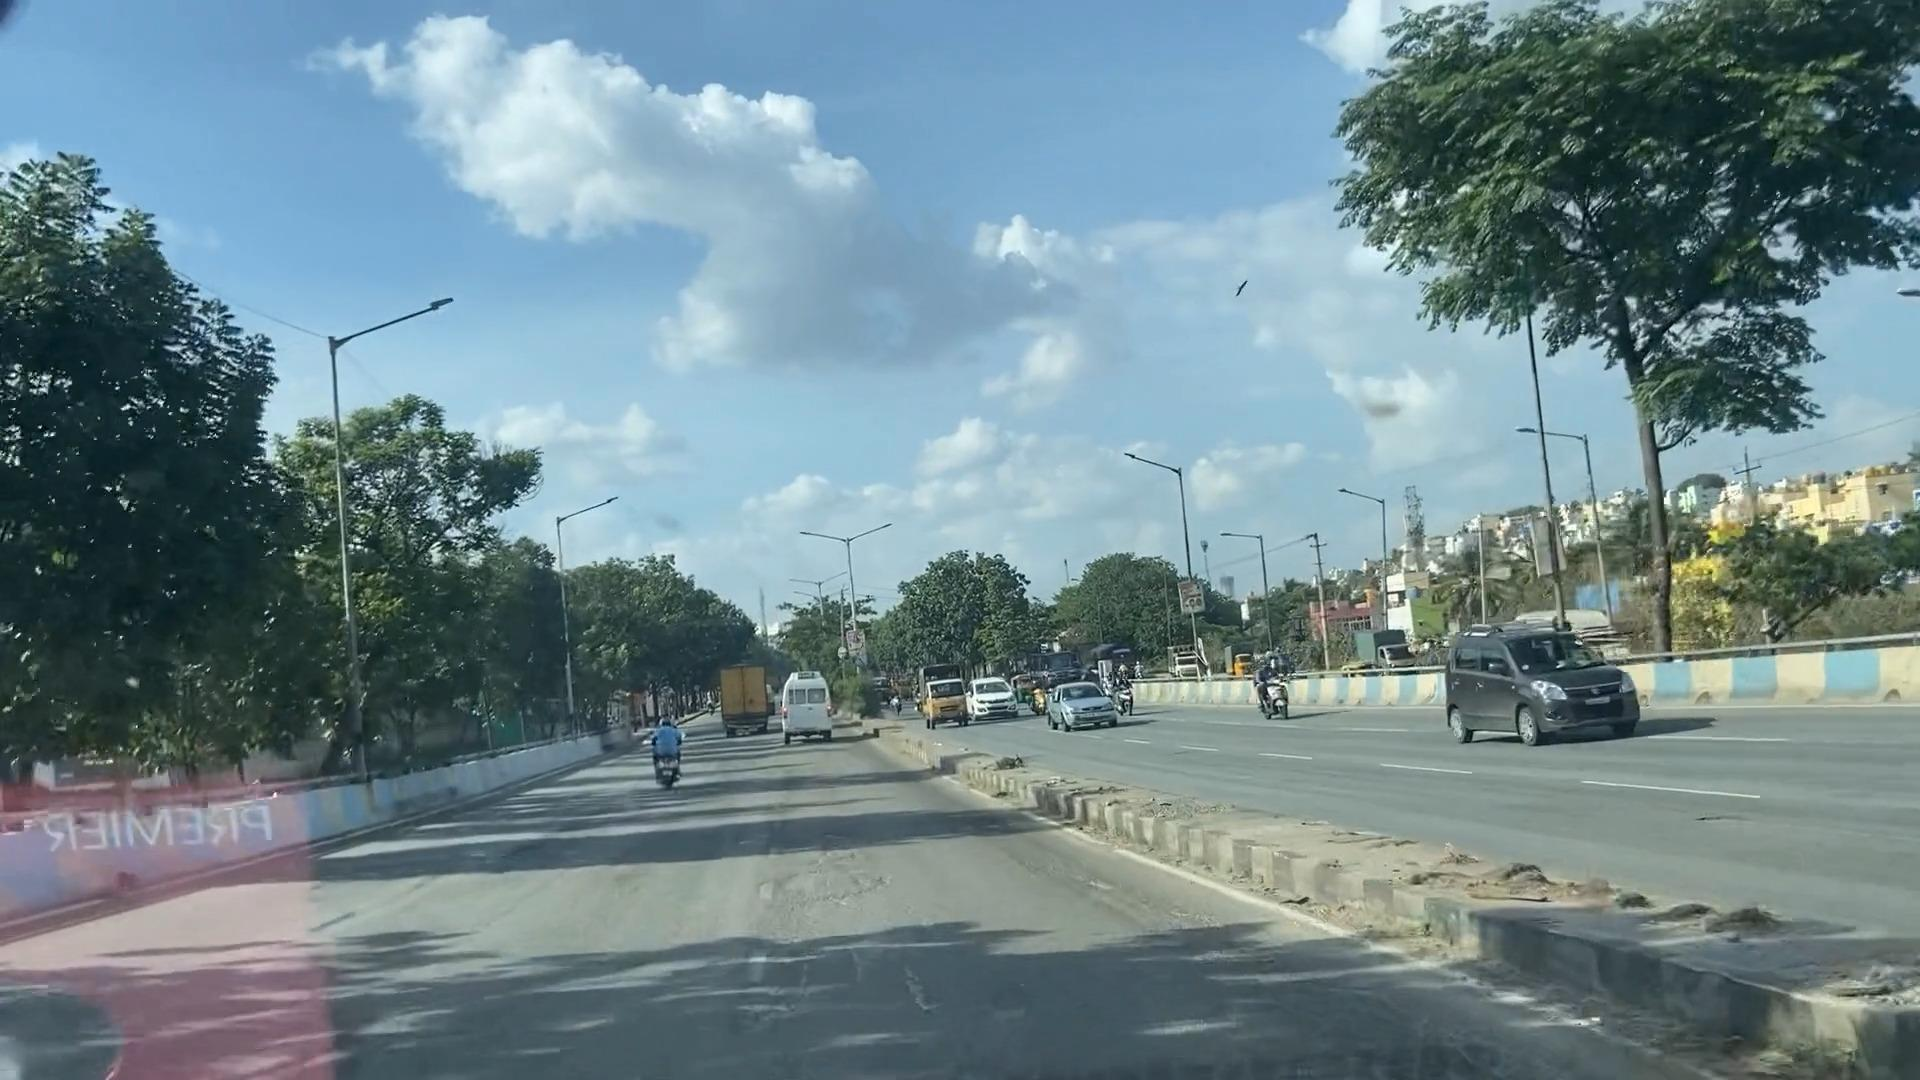HMV: (705, 651, 781, 741), (771, 670, 843, 749)
LMV: (647, 717, 692, 800)
RoadDamages: (604, 845, 1013, 1022), (1102, 884, 1411, 1080)
